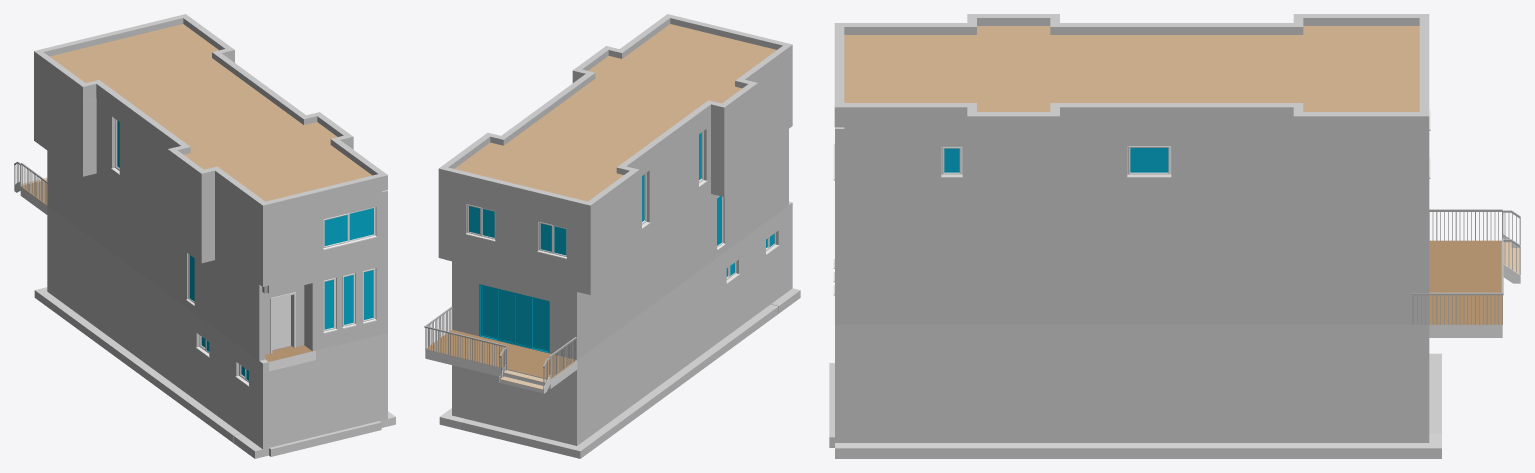
File: ver1All.glb
3 renders of one model, left to right at view 1: azimuth 30°, elevation 25°; view 2: azimuth 150°, elevation 25°; view 3: azimuth 270°, elevation 25°, orthographic. The views are drawn at different scales.
Visible parts, largest first — view 1: Roof-Pitched_38Tile-25Bat-0Felt-25bat-100Ins-150Truss-12PBd:, Basic Wall:Foundation - 10" Concrete.001, Basic Wall:Model wall.038, Basic Wall:Foundation - 10" Concrete.005, Basic Wall:Model wall.010, Basic Wall:Model wall.027, Basic Wall:Foundation - 10" Concrete.004, Basic Wall:Model wall.001, Basic Wall:Model wall.006, Basic Wall:Model wall.004, Standard:521283 : Wall Foundation:Standard:521283, Basic Wall:Model wall.007 (+29 smaller); view 2: Roof-Pitched_38Tile-25Bat-0Felt-25bat-100Ins-150Truss-12PBd:, Basic Wall:Foundation - 10" Concrete.001, Basic Wall:Model wall.038, Basic Wall:Model wall, Basic Wall:Foundation - 10" Concrete, Basic Wall:Model wall.029, Basic Wall:Model wall.010, Basic Wall:Model wall.006, PLYGEM 4 wide 10068x2085 : Multi-Pannel_Sliding_Glass_Door_w, Floor:Deck.001, Standard:521283 : Wall Foundation:Standard:521283, Basic Wall:Model wall.014 (+21 smaller); view 3: Basic Wall:Foundation - 10" Concrete.002, Basic Wall:Model wall.005, Roof-Pitched_38Tile-25Bat-0Felt-25bat-100Ins-150Truss-12PBd:, Basic Wall:Model wall.030, Basic Wall:Model wall.028, Basic Wall:Model wall.008, Standard:329707 : Wall Foundation:Standard:329707, Basic Wall:Model wall.032, Basic Wall:Model wall.016, Floor:Deck.001, Basic Wall:Model wall.037, Basic Wall:Model wall.015 (+13 smaller).
Part boxes in pixels (x1,y1,x2,y2): Roof-Pitched_38Tile-25Bat-0Felt-25bat-100Ins-150Truss-12PBd:: (50,24,372,201); Basic Wall:Foundation - 10" Concrete.001: (47,206,240,432); Basic Wall:Model wall.038: (47,151,265,360); Basic Wall:Foundation - 10" Concrete.005: (316,334,381,436); Basic Wall:Model wall.010: (96,99,167,217); Basic Wall:Model wall.027: (215,185,268,286); Basic Wall:Foundation - 10" Concrete.004: (269,360,315,447); Basic Wall:Model wall.001: (267,207,315,293); Basic Wall:Model wall.006: (34,66,79,173); Basic Wall:Model wall.004: (318,258,381,349); Standard:521283 : Wall Foundation:Standard:521283: (47,297,240,442); Basic Wall:Model wall.007: (315,191,381,273); Roof-Pitched_38Tile-25Bat-0Felt-25bat-100Ins-150Truss-12PBd:: (454,24,776,201); Basic Wall:Foundation - 10" Concrete.001: (571,219,770,445); Basic Wall:Model wall.038: (571,129,788,359); Basic Wall:Model wall: (444,185,584,293); Basic Wall:Foundation - 10" Concrete: (458,366,570,444); Basic Wall:Model wall.029: (458,255,570,358); Basic Wall:Model wall.010: (639,119,710,237); Basic Wall:Model wall.006: (584,187,636,294); PLYGEM 4 wide 10068x2085 : Multi-Pannel_Sliding_Glass_Door_w: (479,284,549,353); Floor:Deck.001: (427,329,576,378); Standard:521283 : Wall Foundation:Standard:521283: (585,304,778,449); Basic Wall:Model wall.014: (438,166,593,220); Basic Wall:Foundation - 10" Concrete.002: (835,324,1429,442); Basic Wall:Model wall.005: (835,219,1429,324); Roof-Pitched_38Tile-25Bat-0Felt-25bat-100Ins-150Truss-12PBd:: (844,26,1419,111); Basic Wall:Model wall.030: (1060,129,1293,219); Basic Wall:Model wall.028: (1293,136,1429,239); Basic Wall:Model wall.008: (835,127,967,219); Standard:329707 : Wall Foundation:Standard:329707: (835,433,1441,458); Basic Wall:Model wall.032: (967,138,1050,239); Basic Wall:Model wall.016: (1060,103,1303,128); Floor:Deck.001: (1429,240,1502,324); Basic Wall:Model wall.037: (844,103,967,128); Basic Wall:Model wall.015: (1293,112,1419,136).
Bounding box in the file's own units: 20.82 × 32.92 × 59.5.
